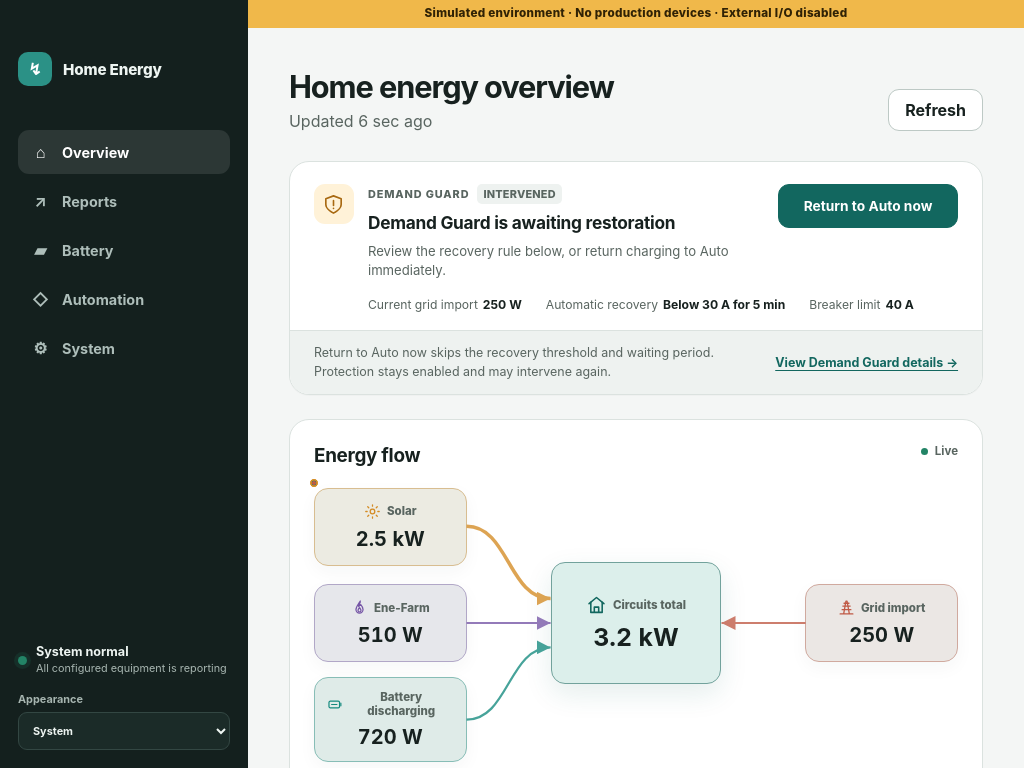
React application shell › restores charging control on Overview with duplicate protection
This screenshot has width=1024, height=768.
Expected: the button "Refresh" is shown, [888,89,983,131]
Click the button "Return to Auto now".
click(868, 206)  # box [778,184,958,228]
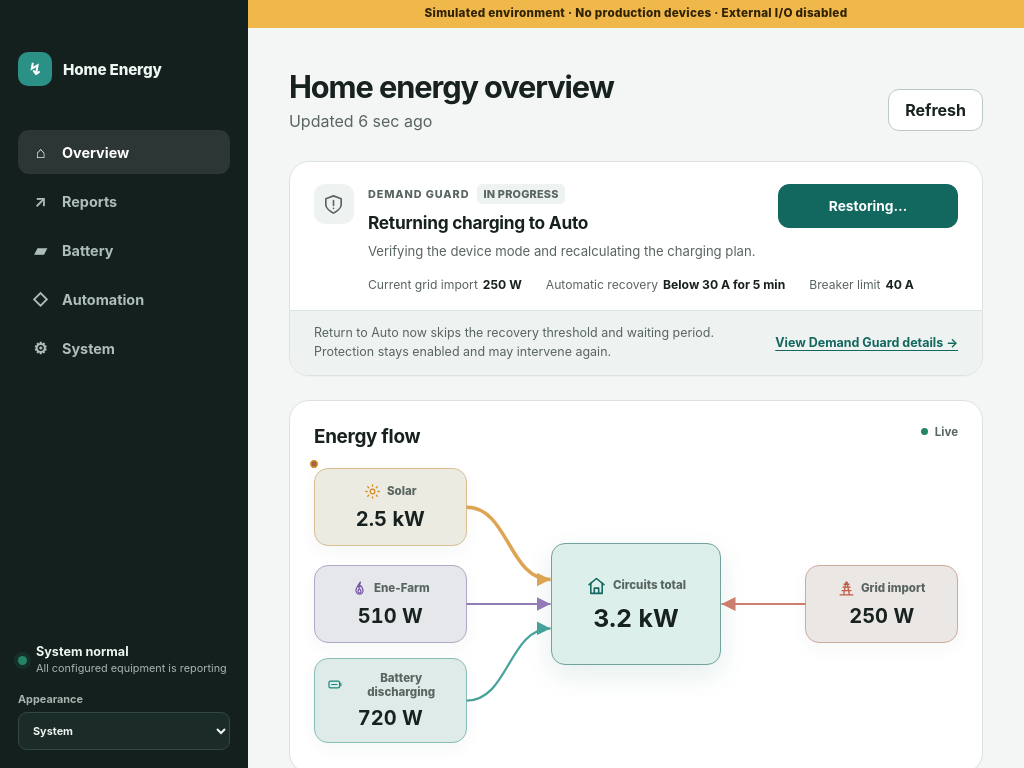
Expected: the button "Restoring…" is disabled
Click the button "Restoring…".
click(868, 206)  # box [778,184,958,228]
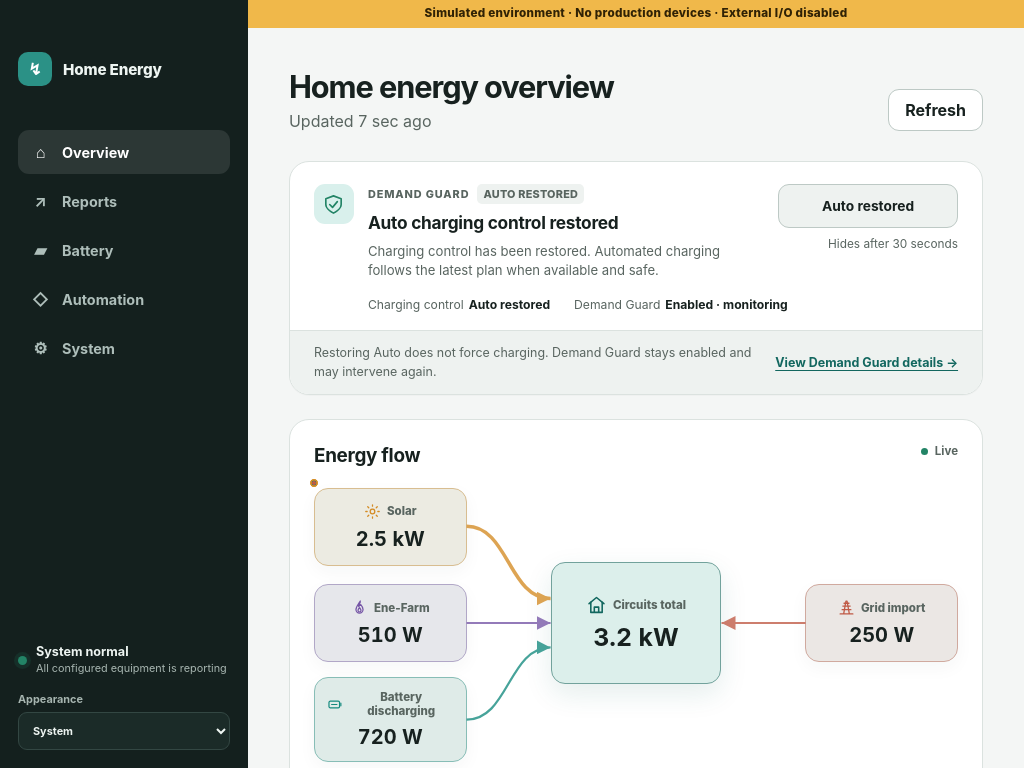
Expected: the button "Auto restored" is disabled, [778,184,958,228]
Expected: the text "Return to Auto now" is gone
